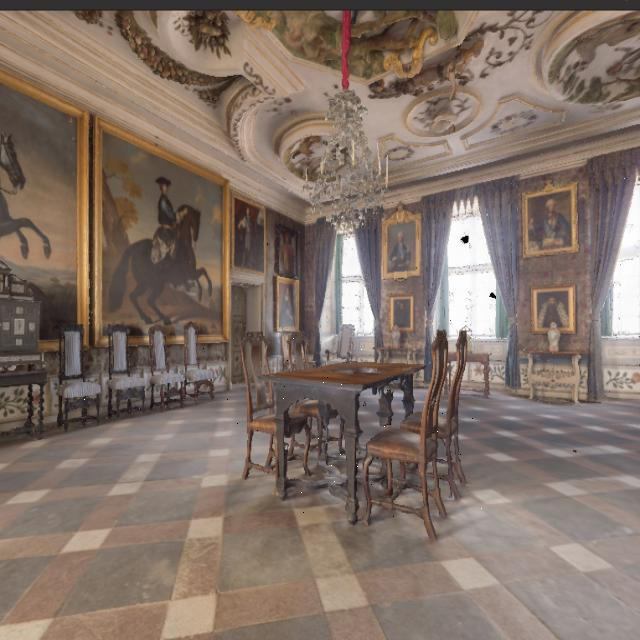chair: (350, 321, 457, 521), (398, 325, 489, 511), (234, 325, 324, 494), (97, 291, 151, 451), (130, 312, 188, 427), (170, 319, 222, 420), (60, 329, 109, 417)
table: (248, 344, 427, 519)
